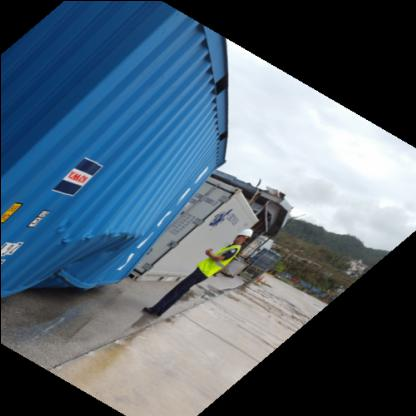Damage: (44, 200, 173, 296)
